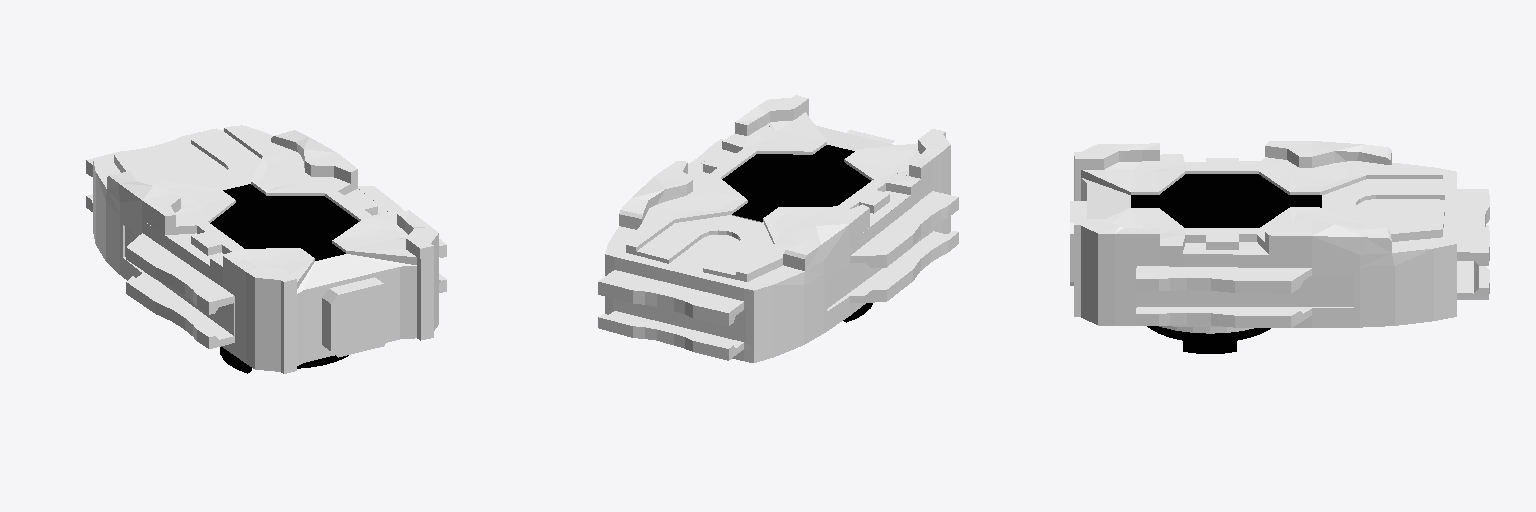
The model's file is launcher_body.obj.
3 renders of one model, left to right at view 1: azimuth 30°, elevation 25°; view 2: azimuth 150°, elevation 25°; view 3: azimuth 270°, elevation 25°, orthographic.
Visible parts, largest first — view 1: Plane.002_Plane.001, Cube.001_Cube.003, Cylinder.004; view 2: Plane.002_Plane.001; view 3: Plane.002_Plane.001, Cylinder.004, Cube.001_Cube.003.
Part boxes in pixels (bbox=[...]): Plane.002_Plane.001: bbox=[86, 125, 446, 373]; Cube.001_Cube.003: bbox=[322, 277, 390, 357]; Cylinder.004: bbox=[220, 347, 348, 373]; Plane.002_Plane.001: bbox=[598, 95, 958, 362]; Plane.002_Plane.001: bbox=[1074, 141, 1489, 327]; Cylinder.004: bbox=[1147, 254, 1270, 353]; Cube.001_Cube.003: bbox=[1070, 201, 1086, 285].
Bounding box in the file's own units: 0.6366 × 0.3346 × 0.9336.